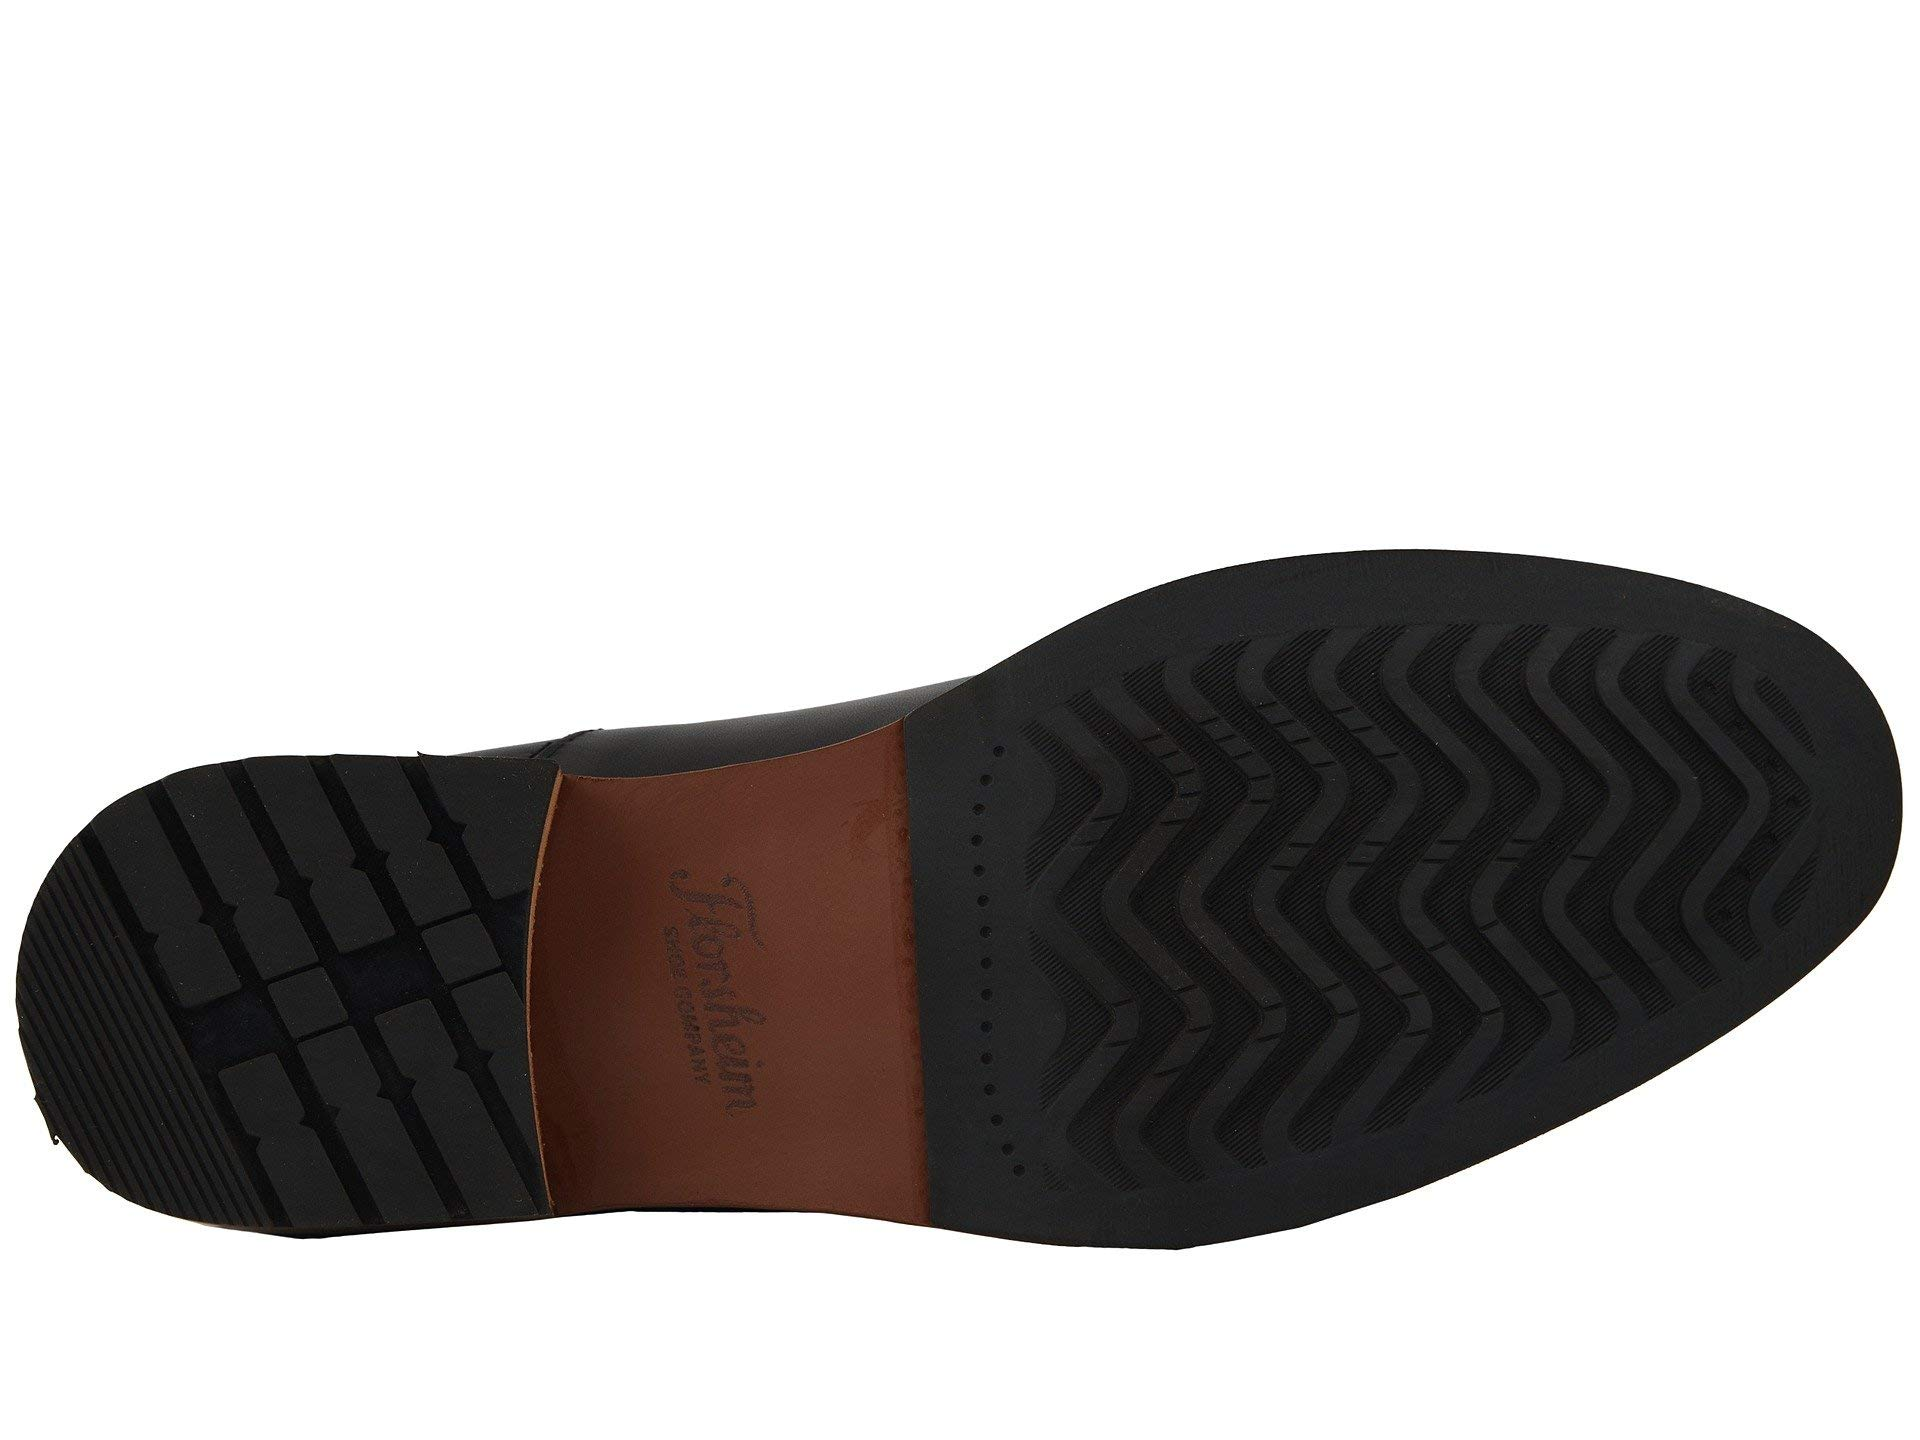bowtie: (89, 850, 514, 1201)
chevron: (1107, 670, 1562, 1088)
line: (89, 850, 514, 1201)
quad: (89, 850, 514, 1201)
